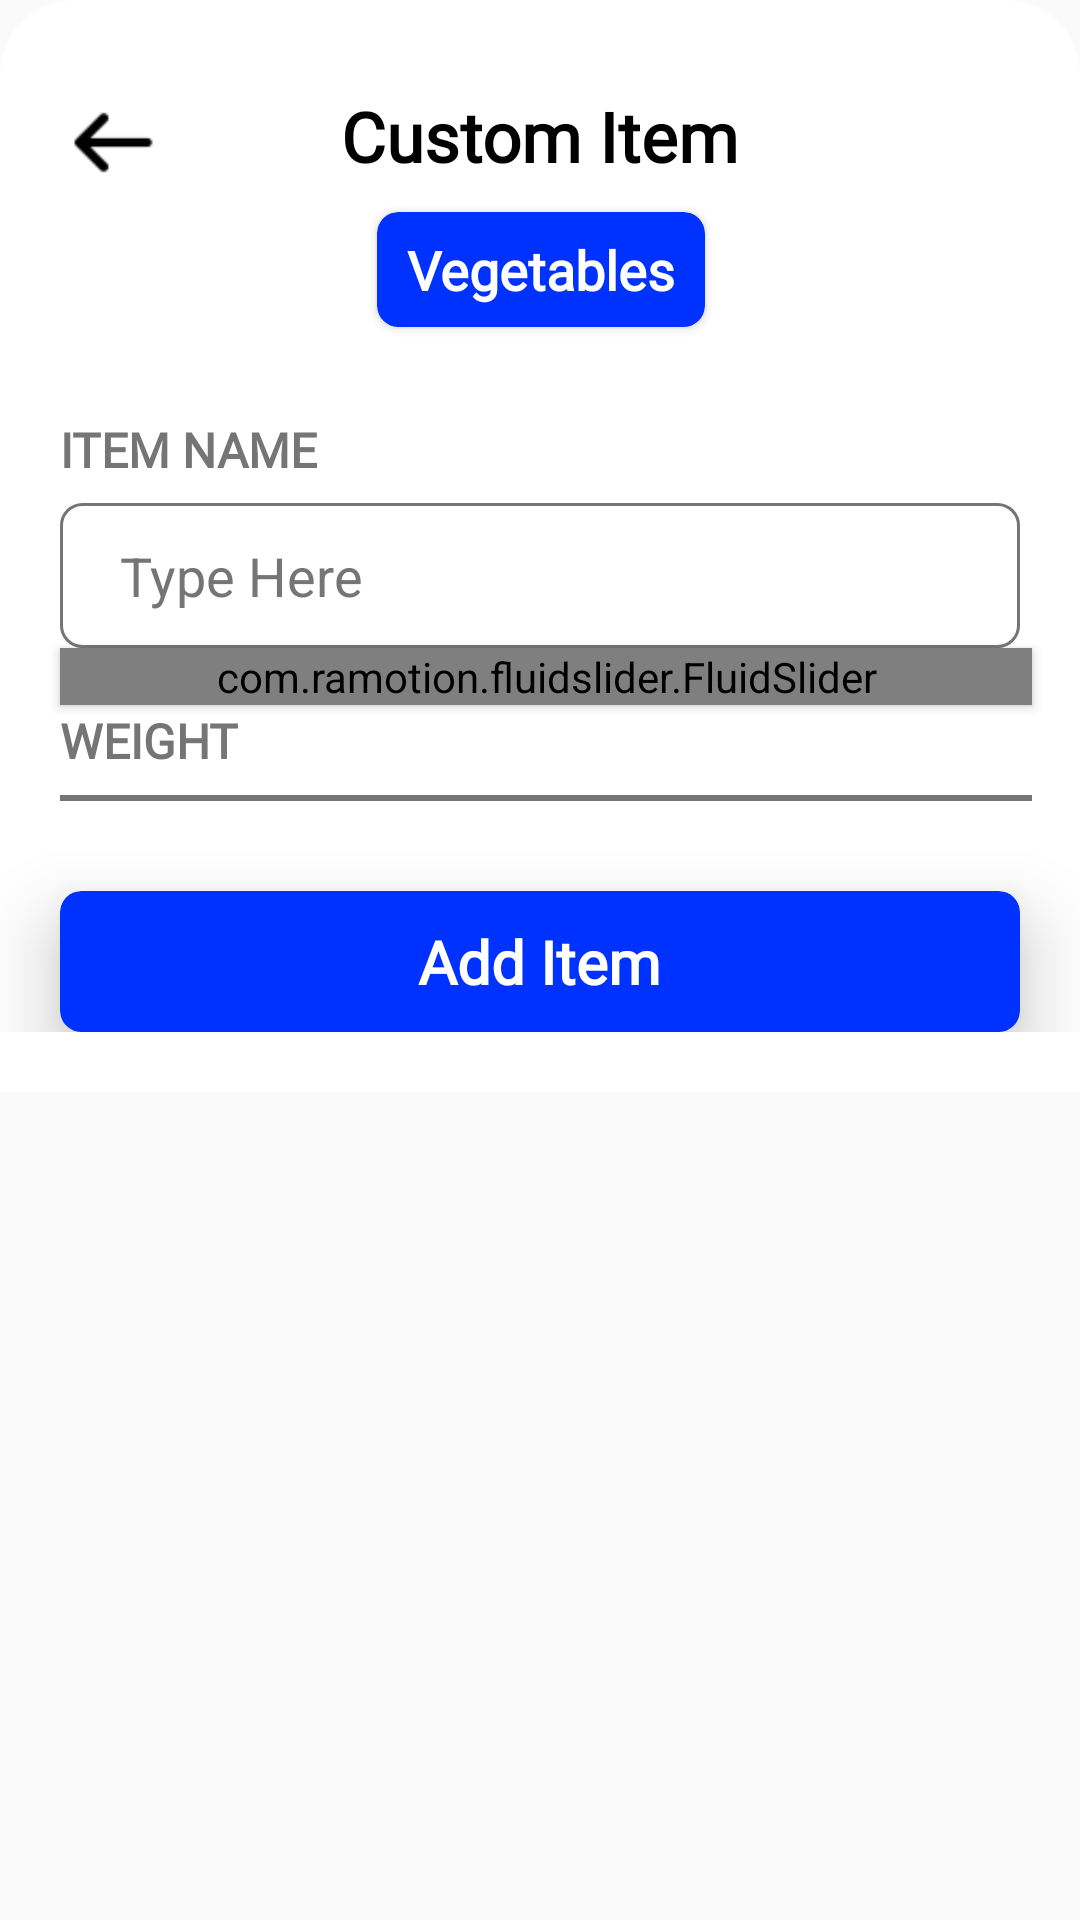

Icon click points for this 1080 x 1920 phone screenshot, format point (x, y):
back: point (113, 142)
